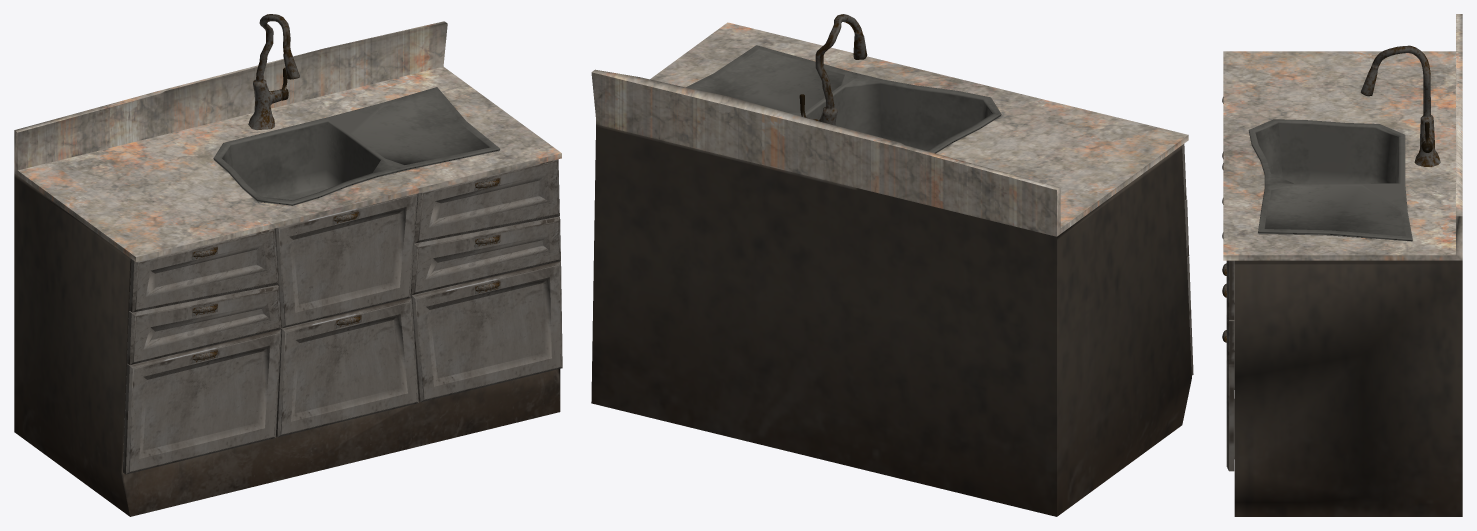
The model's file is Kitchen_1.fbx.
The picture shows the model from 3 angles, left to right: view 1: azimuth 30°, elevation 25°; view 2: azimuth 150°, elevation 25°; view 3: azimuth 270°, elevation 25°; orthographic projection. The views are drawn at different scales.
Parts seen in each view (by area): view 1: Object030.002; view 2: Object030.002; view 3: Object030.002.
Part boxes in pixels (<box>): Object030.002: <box>14,14,562,516</box>; Object030.002: <box>591,14,1193,516</box>; Object030.002: <box>1222,14,1462,516</box>.
Size of the model in its own units: 153 by 127 by 73.8.
